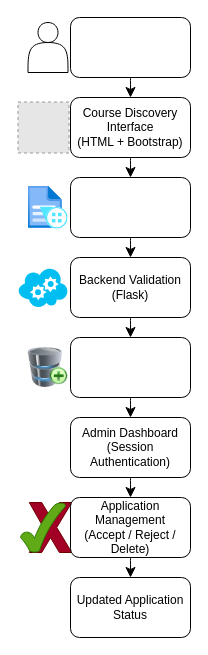
The diagram is 208 pixels wide and 655 high, and some of its shapes have lost their labels. Grey dashed boxes stand in for pictures. The shapes that lost their labels are listed below. From the top down, each one's centre as x and y in pixels, then its label:
the point at 130,47: Student
the point at 130,207: Application Form Submission (Flask POST Request)
the point at 130,367: SQLite Database Storage
